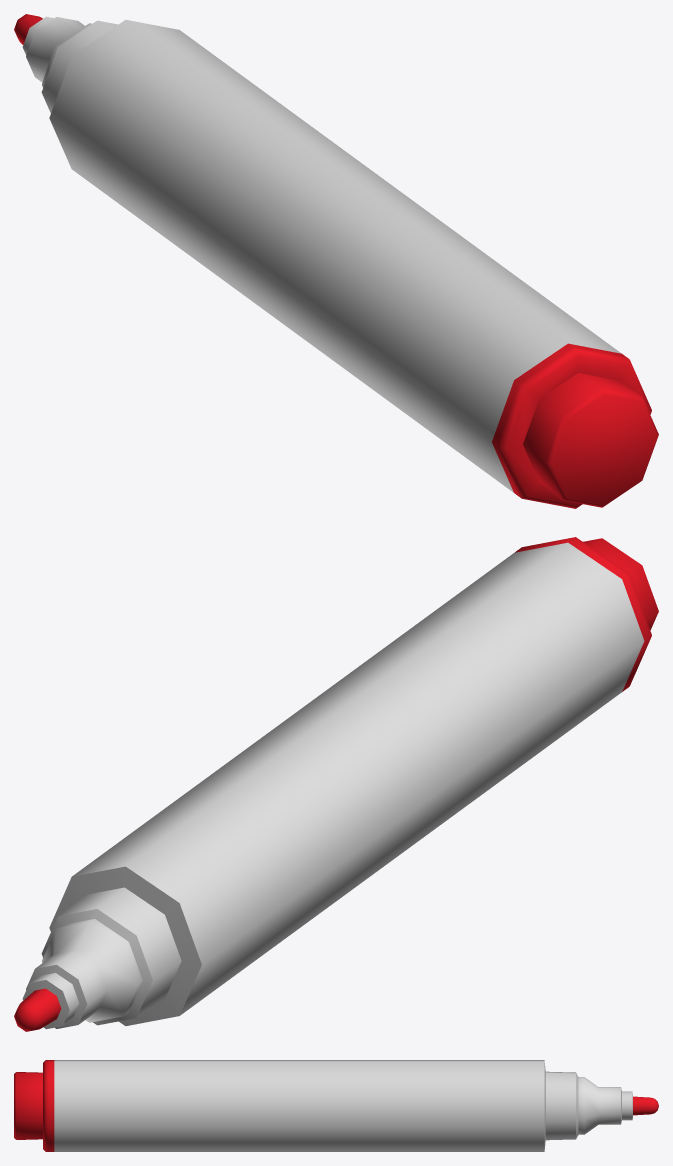
File: pen_marker.glb
3 views of the same model, one above another, from view 1: azimuth 30°, elevation 25°; view 2: azimuth 150°, elevation 25°; view 3: azimuth 270°, elevation 25° (orthographic). The views are drawn at different scales.
Parts seen in each view (by area): view 1: 0.010, primary; view 2: 0.010, primary; view 3: 0.010, primary.
Part boxes in pixels (left/top/right/bottom): 0.010: left=22, top=16, right=621, bottom=492; primary: left=14, top=14, right=658, bottom=508; 0.010: left=22, top=542, right=644, bottom=1029; primary: left=14, top=537, right=658, bottom=1031; 0.010: left=54, top=1060, right=632, bottom=1151; primary: left=14, top=1060, right=658, bottom=1151.
Bounding box in the file's own units: 0.0366 × 0.0366 × 0.2419.
